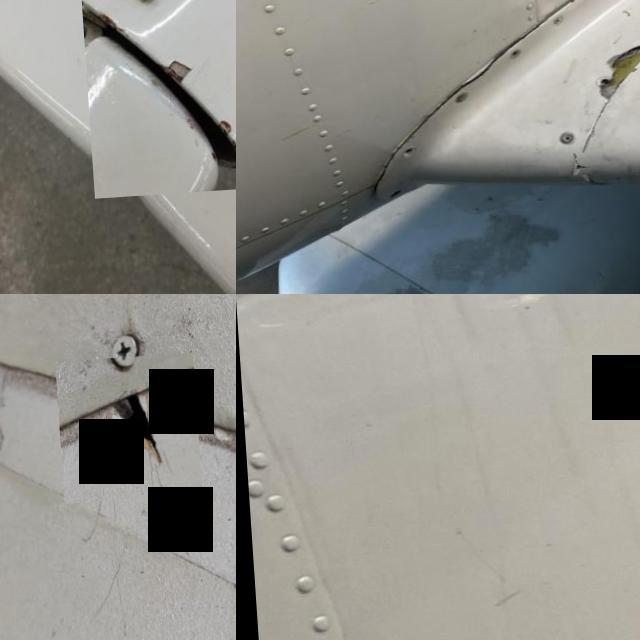Crack: (76, 0, 236, 202), (52, 358, 197, 508), (386, 88, 460, 151), (585, 47, 640, 110), (344, 137, 390, 210), (451, 55, 506, 96), (551, 159, 594, 183)
Missing_Fastener: (394, 152, 411, 164), (381, 190, 396, 203), (504, 54, 517, 68)
